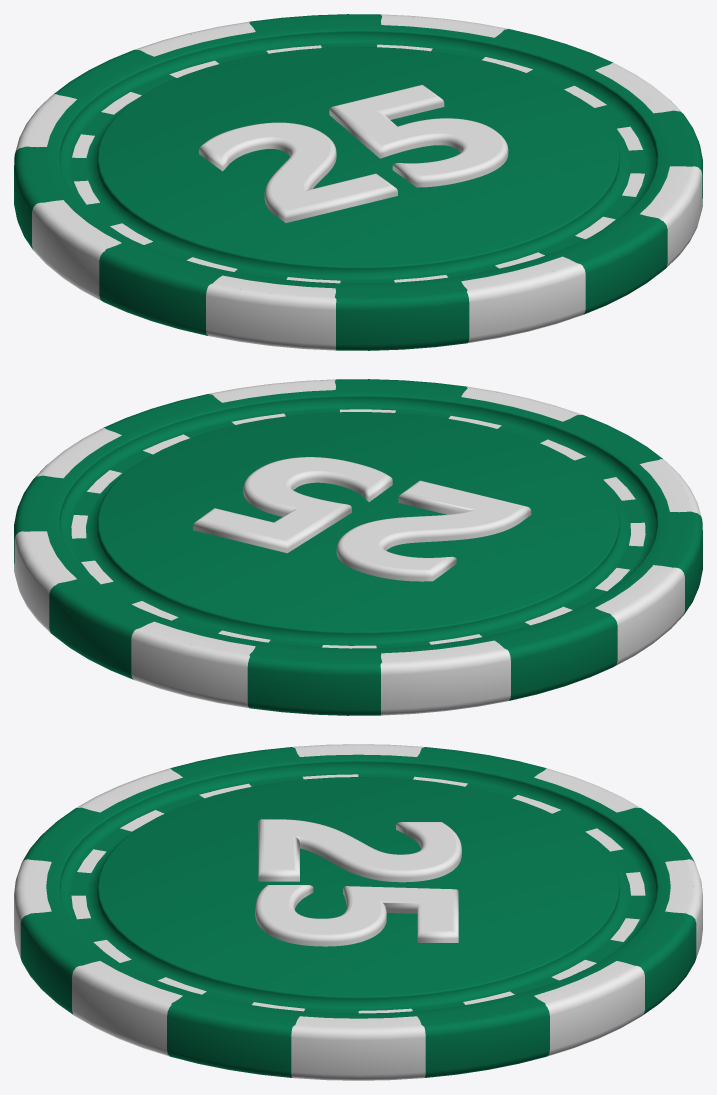
The model's file is poker_chip_25.glb.
3 renders of one model, top to bottom at view 1: azimuth 30°, elevation 25°; view 2: azimuth 150°, elevation 25°; view 3: azimuth 270°, elevation 25°, orthographic.
Parts seen in each view (by area): view 1: Text.002_0; view 2: Text.002_0; view 3: Text.002_0.
Boxes of the visible parts, x1,y1,x2,y2 form: Text.002_0: [14, 14, 702, 350]; Text.002_0: [14, 379, 702, 715]; Text.002_0: [14, 744, 702, 1080].
Size of the model in its own units: 0.0802 by 0.00911 by 0.0802.
